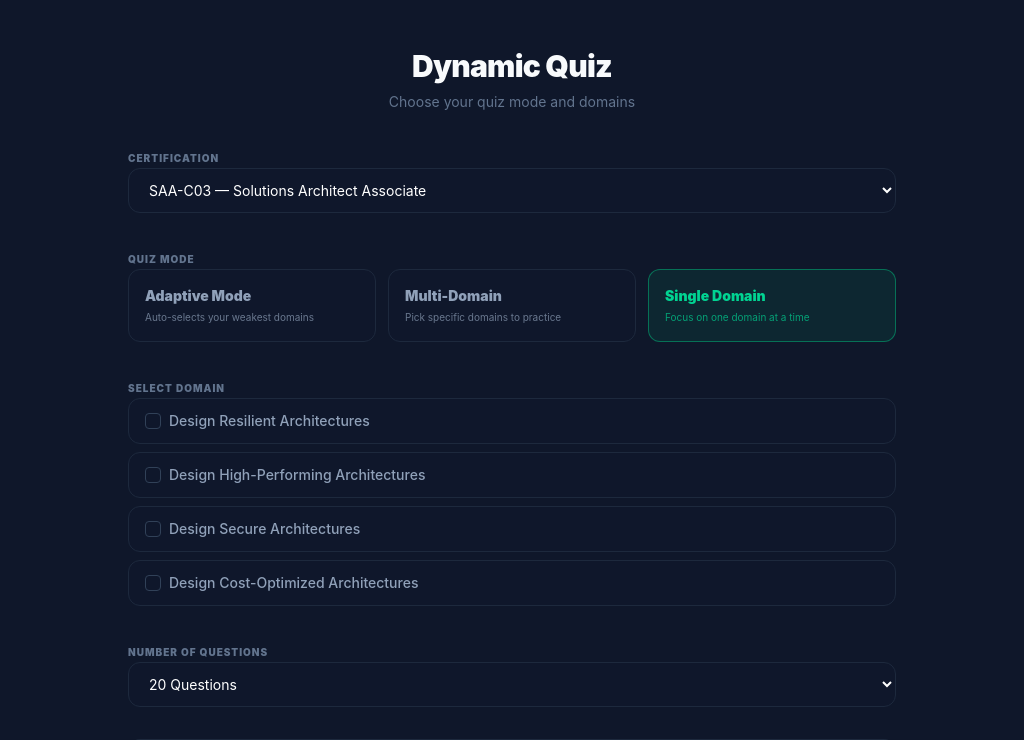
DynamicQuiz - Adaptive Mode › Multi-domain selector › shows domain selector when multi-domain mode is selected
Click the button "Multi-Domain" at (512, 306), box [388,269,636,342]
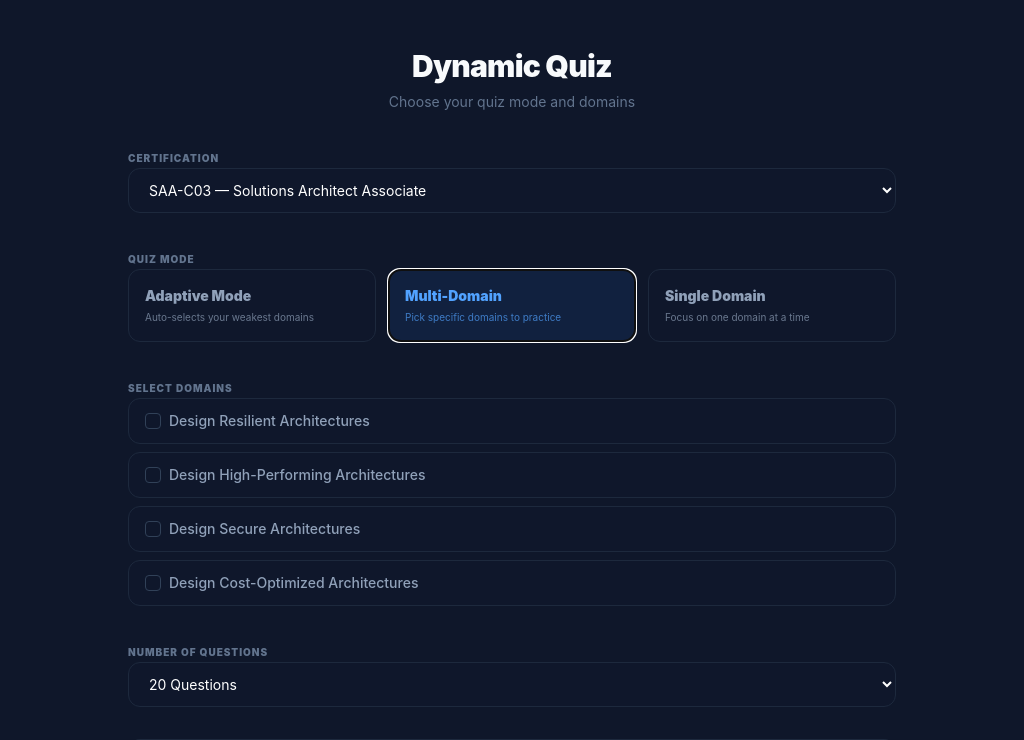
expect the text "Select Domains" is shown: met, box [128,382,233,394]
